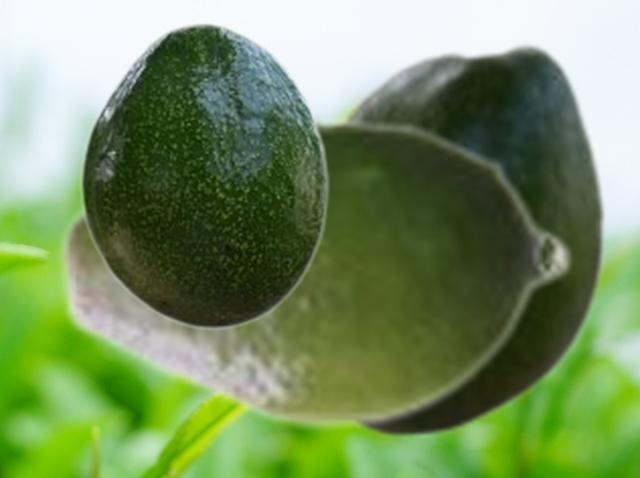avocado: (53, 110, 575, 434), (340, 40, 606, 439), (79, 22, 328, 330)
